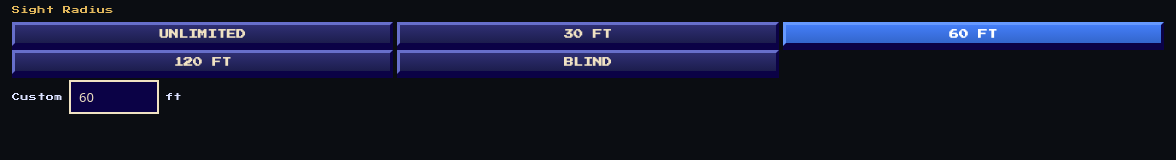
VisionRadiusField custom value › treats unparseable text as an emptied field, i.e. Unlimited
Step 1. Replace the text in the number field named "Sight radius in feet" with "sixty" → x=114, y=97, box left=69, top=80, right=159, bottom=114
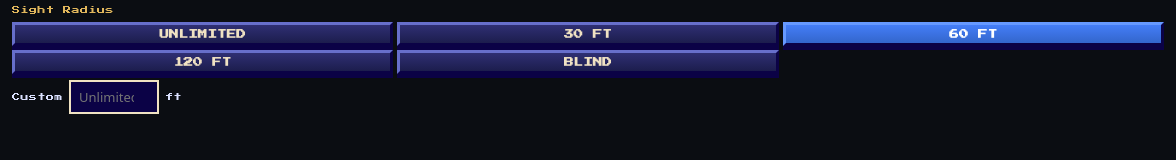
Expected: the number field named "Sight radius in feet" is not empty, left=69, top=80, right=159, bottom=114
